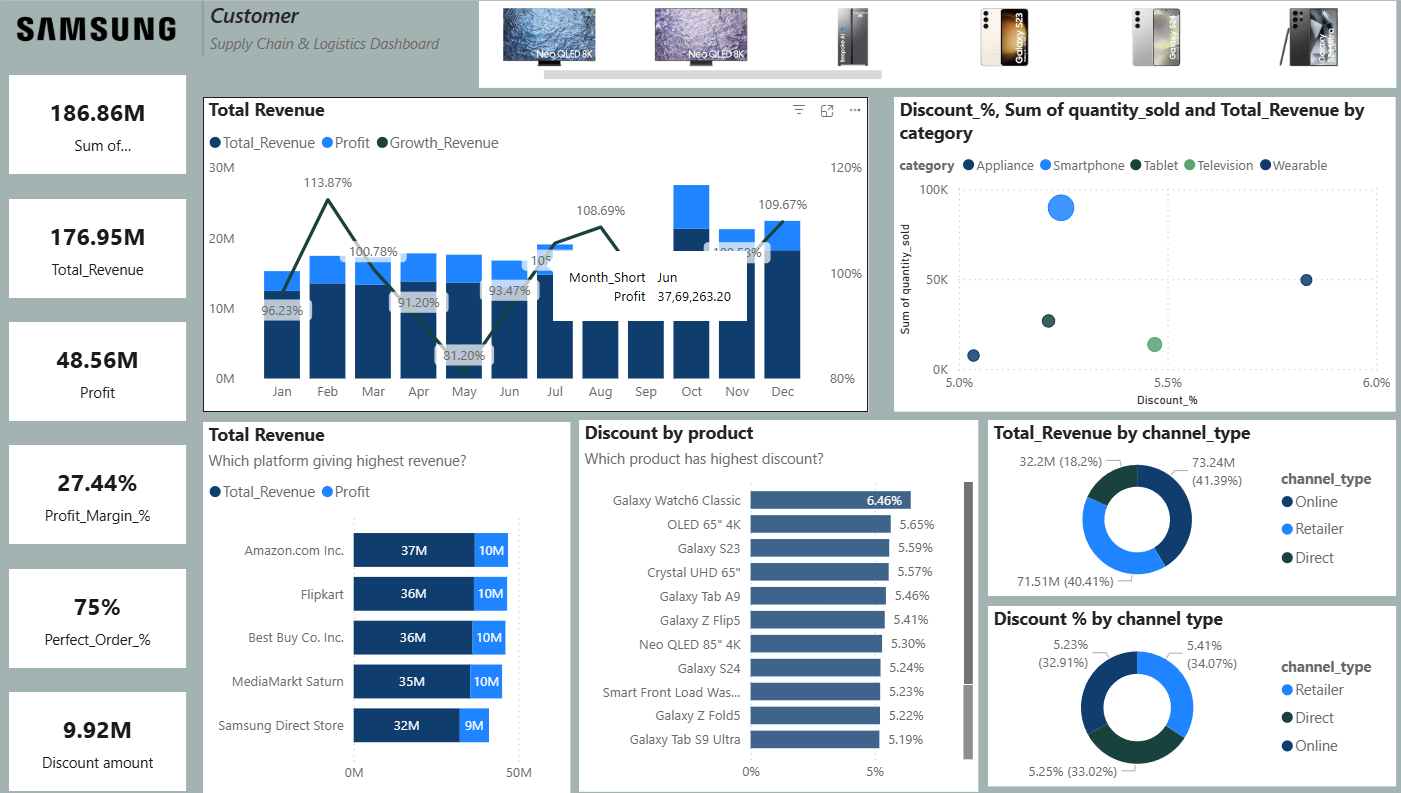

This screenshot's page, from the dashboard's own definition file:
{"tool":"powerbi","page":{"name":"Customer","canvas":[1280,720],"ordinal":5},"visuals":[{"type":"shape","title":"Customer","box":[192.1,0,244.2,50.3],"z":0},{"type":"shape","box":[167,0,35.9,50.3],"z":1000},{"type":"image","box":[0,0,169.7,50.3],"z":2000},{"type":"cardVisual","fields":{"Data":["MeasuresTable.Total_Revenue"]},"box":[9,179.6,161,90],"z":3000},{"type":"cardVisual","fields":{"Data":["MeasuresTable.Profit"]},"box":[9,291.8,161,90],"z":4000},{"type":"cardVisual","fields":{"Data":["Sum(fact_sales.discount_amount)"]},"box":[9,628.4,161,90],"z":5000},{"type":"cardVisual","fields":{"Data":["MeasuresTable.Profit_Margin_%"]},"box":[9,404,161,90],"z":6000},{"type":"cardVisual","fields":{"Data":["Sum(fact_sales.gross_revenue)"]},"box":[9,67.3,161,90],"z":7000},{"type":"cardVisual","fields":{"Data":["MeasuresTable.Perfect_Order_%"]},"box":[9,516.2,161,90],"z":8000},{"type":"barChart","title":"Total Revenue","fields":{"Category":["dim_customer.customer_name"],"Y":["MeasuresTable.Total_Revenue","MeasuresTable.Profit"]},"box":[185,382.5,333.8,337.5],"z":9000},{"type":"donutChart","fields":{"Y":["MeasuresTable.Total_Revenue"],"Category":["dim_customer.channel_type"]},"box":[898.8,381.2,371.2,160],"z":10000},{"type":"clusteredBarChart","title":"Discount by product","fields":{"Y":["MeasuresTable.Discount_%"],"Category":["dim_product.product_name"]},"box":[527.5,381.2,362.5,337.5],"z":11000},{"type":"lineStackedColumnComboChart","title":"Total Revenue","fields":{"Category":["dim_date.Month_Short"],"Y2":["MeasuresTable.Growth_Revenue"],"Y":["MeasuresTable.Total_Revenue","MeasuresTable.Profit"]},"box":[185,87.5,605,286.2],"z":12000},{"type":"scatterChart","fields":{"X":["MeasuresTable.Discount_%"],"Y":["Sum(fact_sales.quantity_sold)"],"Series":["dim_product.category"],"Size":["MeasuresTable.Total_Revenue"]},"box":[813.8,87.5,456.2,286.2],"z":13000},{"type":"donutChart","title":"Discount % by channel type","fields":{"Y":["MeasuresTable.Discount_%"],"Category":["dim_customer.channel_type"]},"box":[898.8,550,371.2,163.8],"z":14000},{"type":"advancedSlicerVisual","fields":{"Values":["dim_product.product_name"]},"box":[436.2,0,833.8,78.8],"z":15000}]}

Visuals, with their boxes in screenshot pixels (x1, y1, x2, y2), scaled from the page's 1280x720 canvas onto the 1401x793 screenshot:
"Customer" shape: 210:0:478:55
shape: 183:0:222:55
image: 0:0:186:55
cardVisual - MeasuresTable.Total_Revenue: 10:198:186:297
cardVisual - MeasuresTable.Profit: 10:321:186:421
cardVisual - Sum(fact_sales.discount_amount): 10:692:186:791
cardVisual - MeasuresTable.Profit_Margin_%: 10:445:186:544
cardVisual - Sum(fact_sales.gross_revenue): 10:74:186:173
cardVisual - MeasuresTable.Perfect_Order_%: 10:569:186:668
"Total Revenue" barChart: 202:421:568:792
donutChart - MeasuresTable.Total_Revenue x dim_customer.channel_type: 984:420:1390:596
"Discount by product" clusteredBarChart: 577:420:974:792
"Total Revenue" lineStackedColumnComboChart: 202:96:865:412
scatterChart - MeasuresTable.Discount_% x Sum(fact_sales.quantity_sold): 891:96:1390:412
"Discount % by channel type" donutChart: 984:606:1390:786
advancedSlicerVisual - dim_product.product_name: 477:0:1390:87
